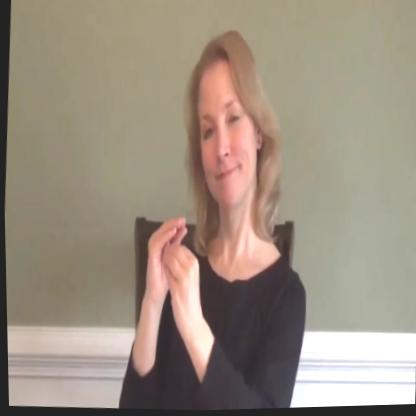Fix: (139, 201, 214, 345)
